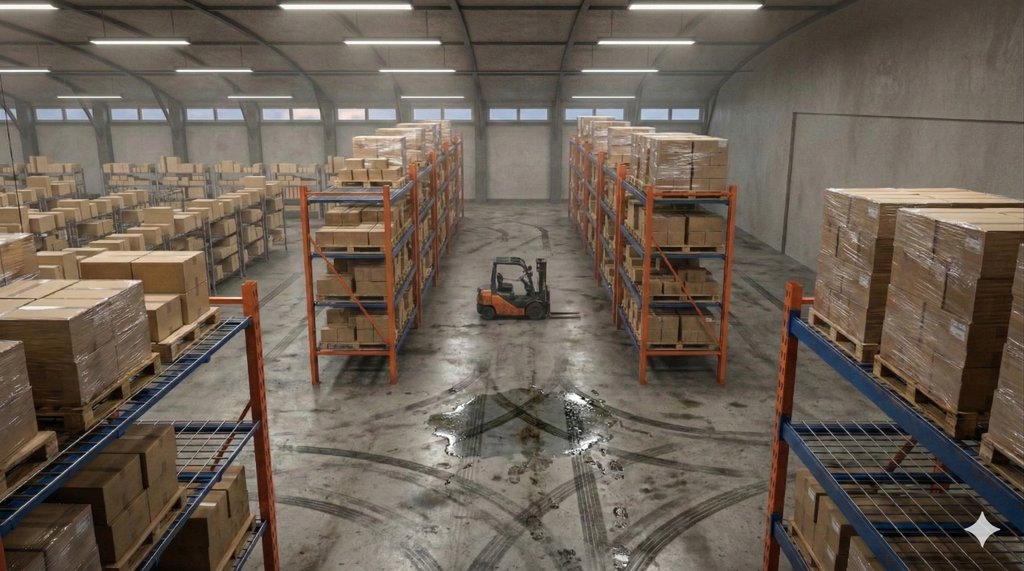empty_shelf: (802, 391, 999, 555), (164, 383, 256, 457)
forklift: (463, 242, 591, 337)
spill: (421, 358, 657, 515)
